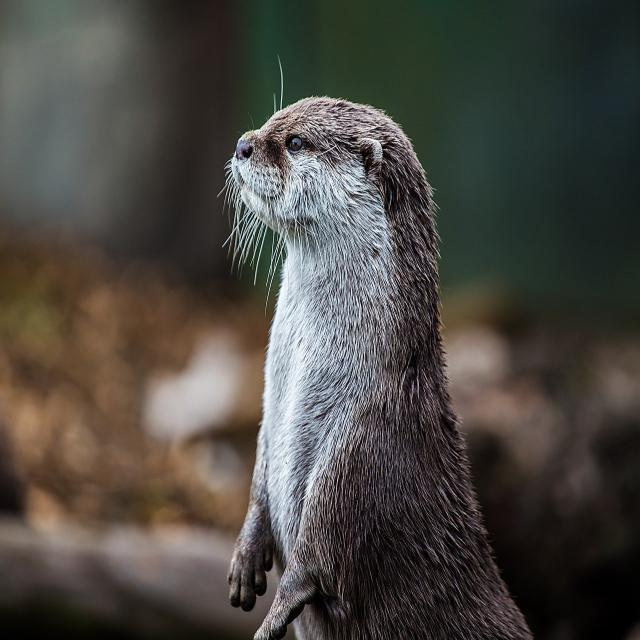Otter: (230, 94, 531, 633)
